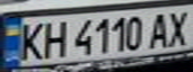0: (124, 12, 148, 51)
1: (90, 15, 112, 54), (109, 14, 130, 52)
4: (69, 16, 97, 56)
A: (145, 10, 172, 49)
H: (39, 18, 69, 58)
K: (15, 19, 48, 61)
X: (163, 7, 193, 47)
